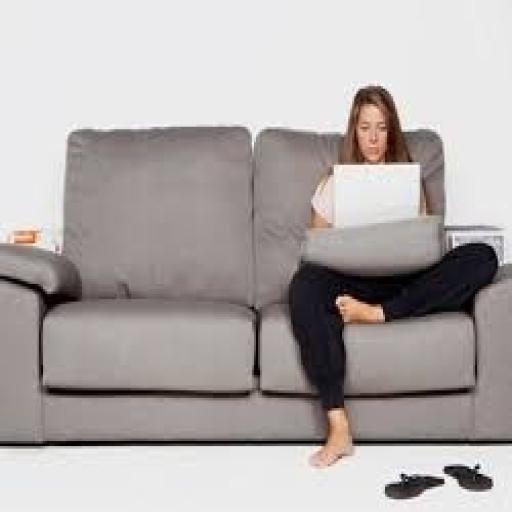sitting: (284, 81, 498, 469)
